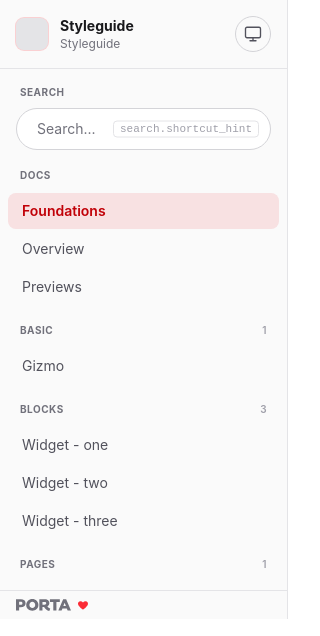
Scenario: Sidebar — pages grouped by category › shows flat full-name results while a search is active
Click the button "Pages 1": (38, 564) [8,551,279,578]
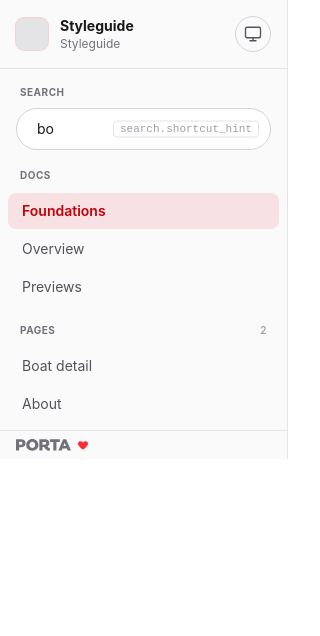
Now no list items with test id "sidebar-page-group" are shown
Now the text "Boat detail" is shown, box [22,357,92,374]
